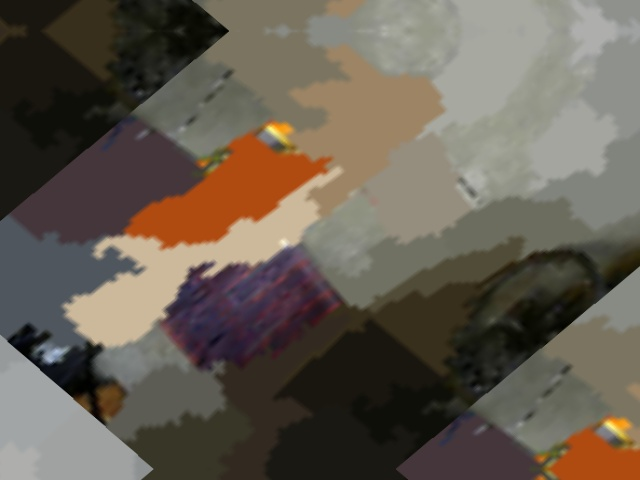three: (56, 252, 123, 304)
